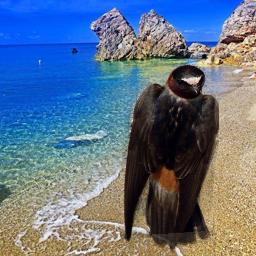Swallow: (121, 64, 219, 252)
